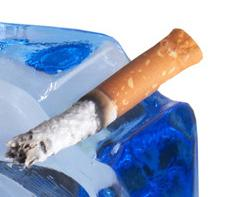smoke: (5, 27, 205, 167)
